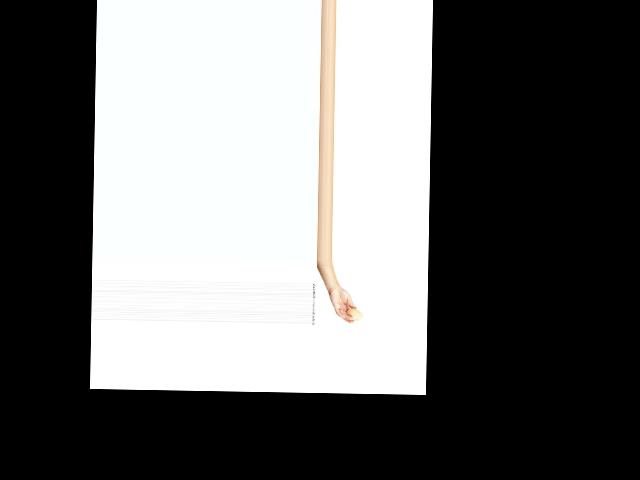egg: (345, 308, 362, 320)
